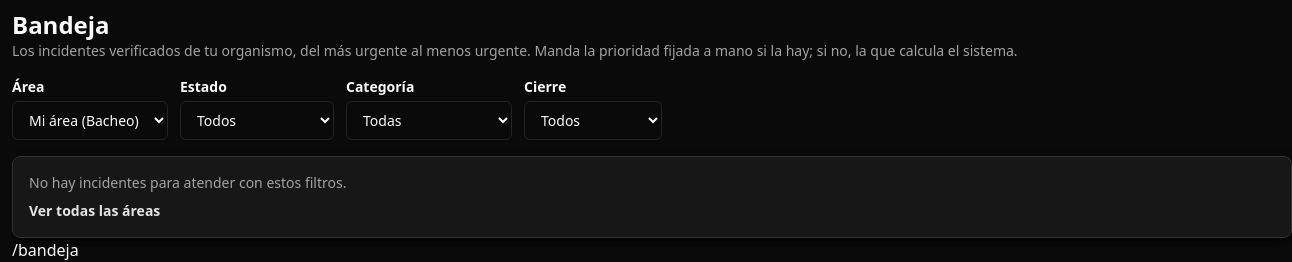
it: bandeja del operador › vacía: lo dice y ofrece ver todas las áreas
(page scrolled)
Expected: the text "No hay incidentes para atender con estos filtros." is shown, [29, 173, 346, 192]
Step 1. Click the button "Ver todas las áreas" → (95, 211), box [29, 201, 160, 221]
(page scrolled)
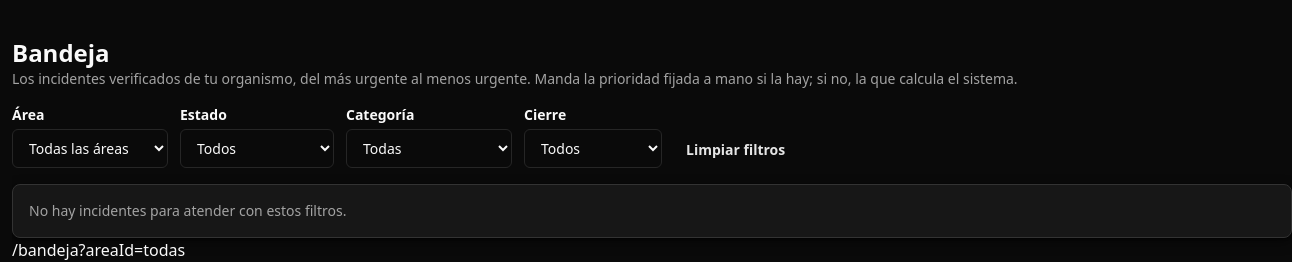
Result: the text with test id "ubicacion" reads "/bandeja?areaId=todas" at [12, 239, 185, 261]
